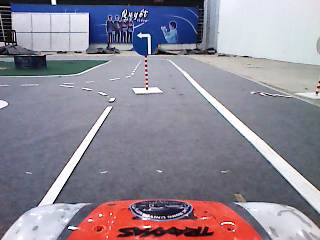turn: (132, 30, 159, 56)
